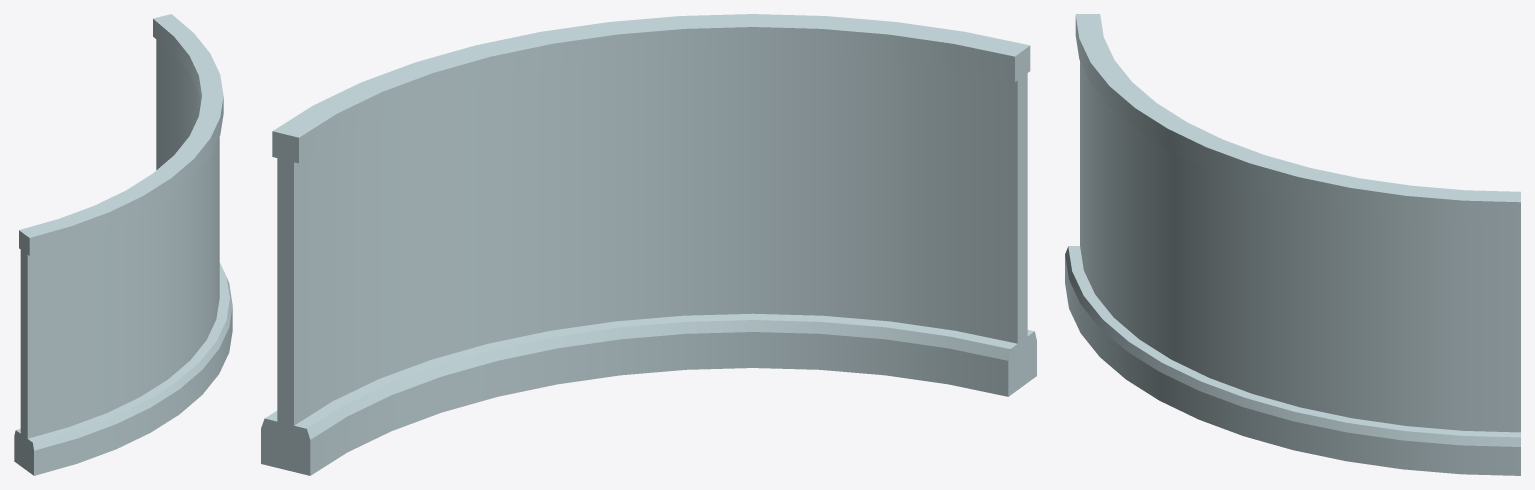
File: stoneWallCurve.glb
3 renders of one model, left to right at view 1: azimuth 30°, elevation 25°; view 2: azimuth 150°, elevation 25°; view 3: azimuth 270°, elevation 25°, orthographic. The views are drawn at different scales.
Visible parts, largest first — view 1: stoneWallCurve; view 2: stoneWallCurve; view 3: stoneWallCurve.
Boxes of the visible parts, left/top/right/bottom form: stoneWallCurve: left=14, top=14, right=232, bottom=475; stoneWallCurve: left=261, top=14, right=1036, bottom=475; stoneWallCurve: left=1065, top=14, right=1520, bottom=475.
Size of the model in its own units: 1 by 0.6519 by 1.
